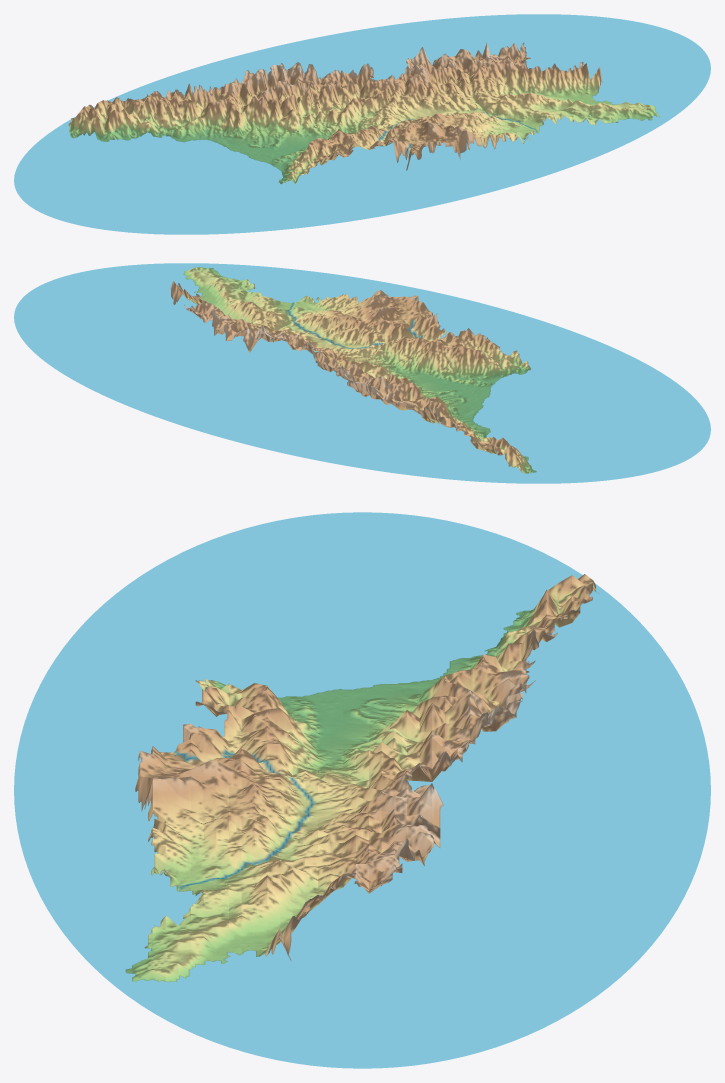
Rendered from GEO-terrain.glb.
The picture shows the model from 3 angles, top to bottom: view 1: azimuth 30°, elevation 25°; view 2: azimuth 150°, elevation 25°; view 3: azimuth 270°, elevation 25°; orthographic projection. The views are drawn at different scales.
Parts seen in each view (by area): view 1: Relevo com hidrografia; view 2: Relevo com hidrografia; view 3: Relevo com hidrografia.
Part boxes in pixels (x1,y1,x2,y2): Relevo com hidrografia: [14, 14, 710, 234]; Relevo com hidrografia: [14, 263, 710, 483]; Relevo com hidrografia: [14, 512, 710, 1068].
Size of the model in its own units: 2.28 by 0.1456 by 1.21.
2 materials, 1 textured.
